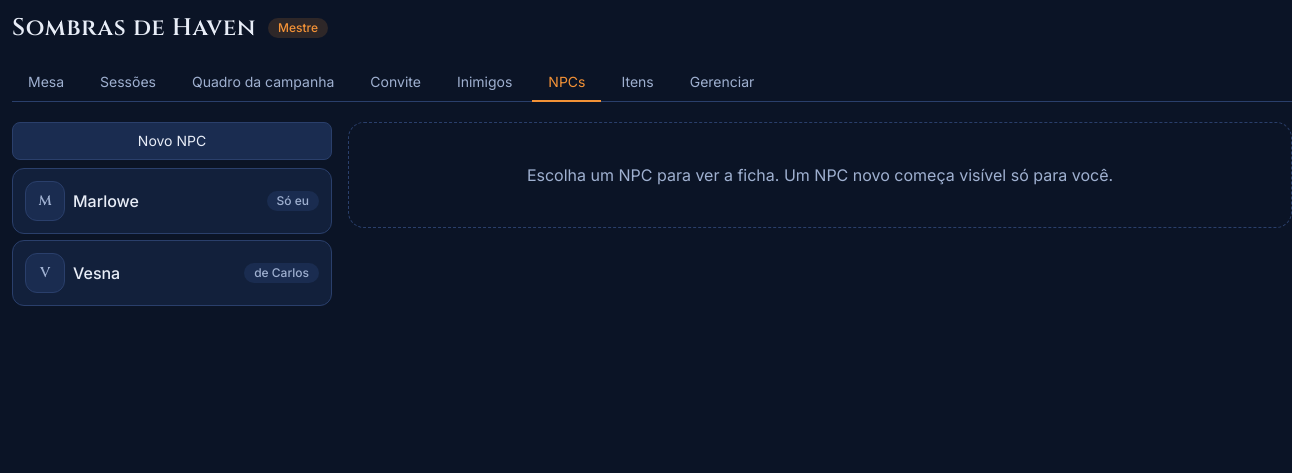
Test: Página da mesa › NPC: o dono escolhe quem vê; o de outro mestre é só leitura
Click the button "M Marlowe Só eu" at (45, 201), box [12,168,332,234]
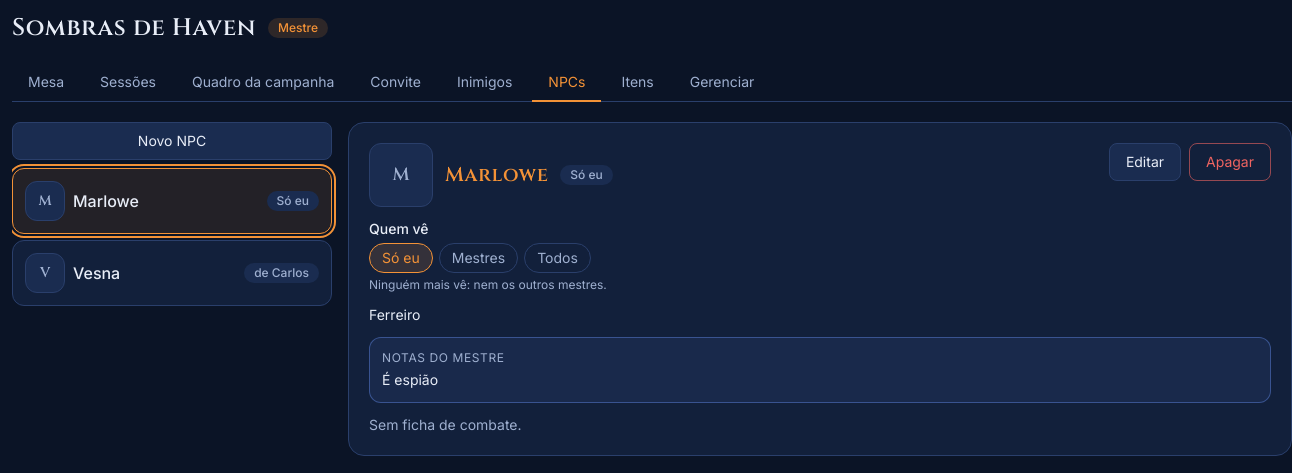
Click the button "Todos" at (557, 258), box [524,243,591,273]
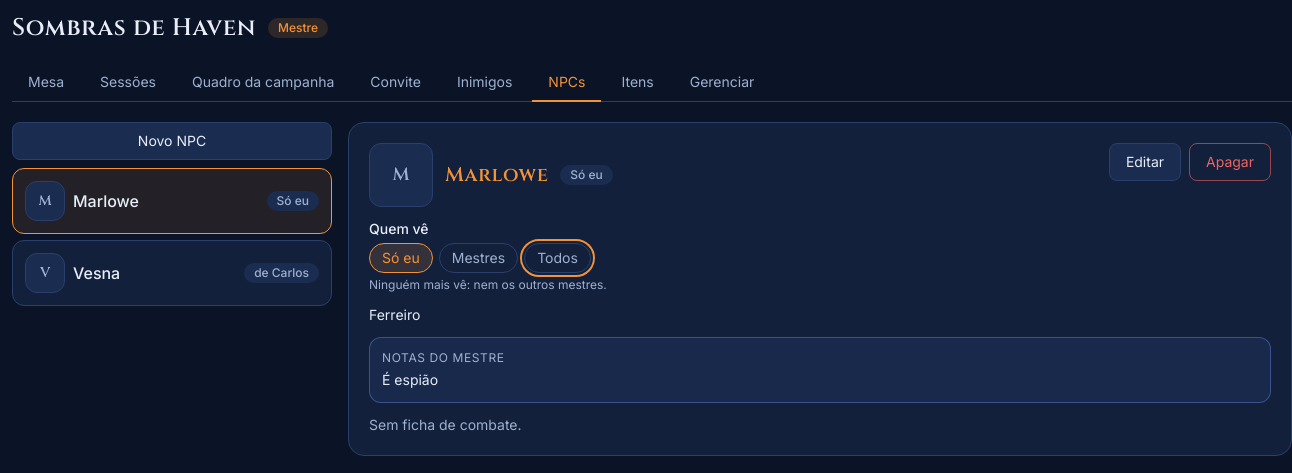
// o NPC do Carlos: dá para ver, mas não editar nem mudar quem vê
Click the button "V Vesna de Carlos" at (45, 273), box [12,240,332,306]
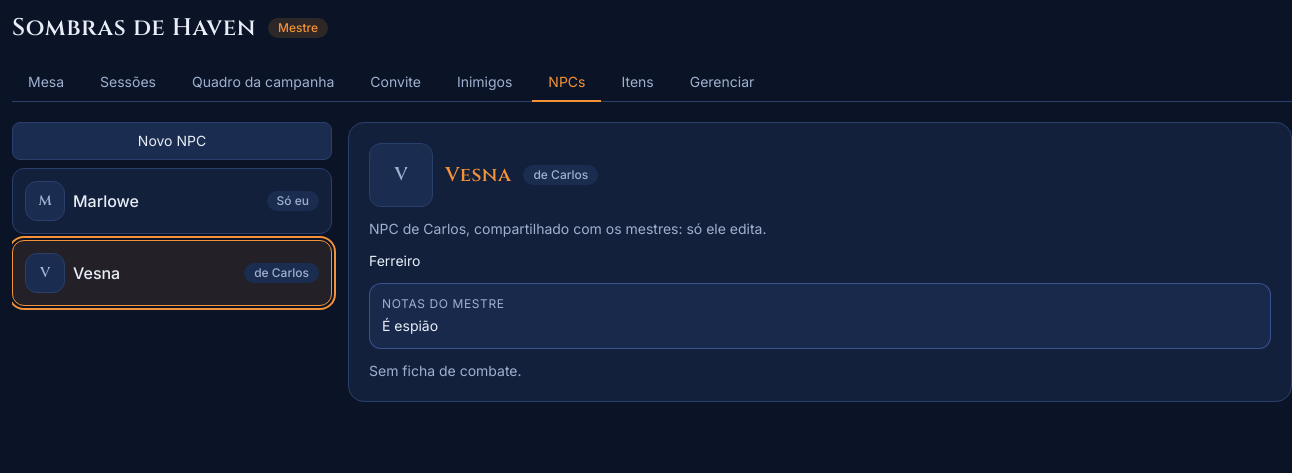
Now the text "NPC de Carlos, compartilhado com os mestres: só ele edita." is shown, box [369,220,766,237]
Now the button "Editar" is gone
Now the button "Todos" is gone
